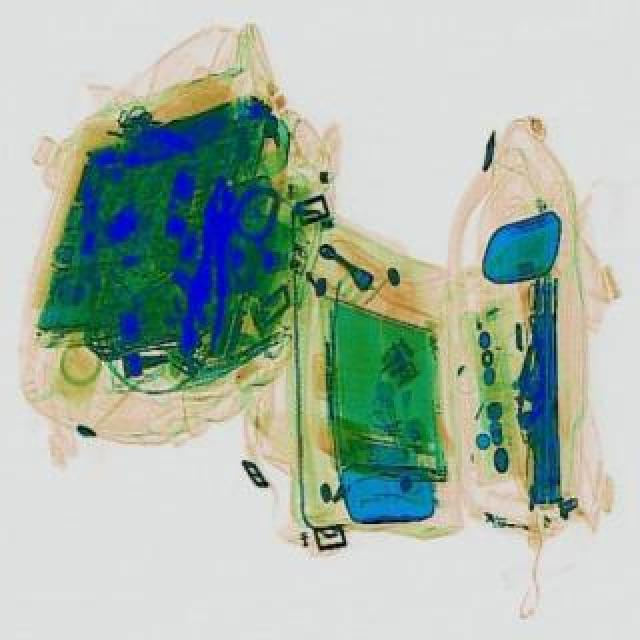wrench: (178, 174, 238, 354)
